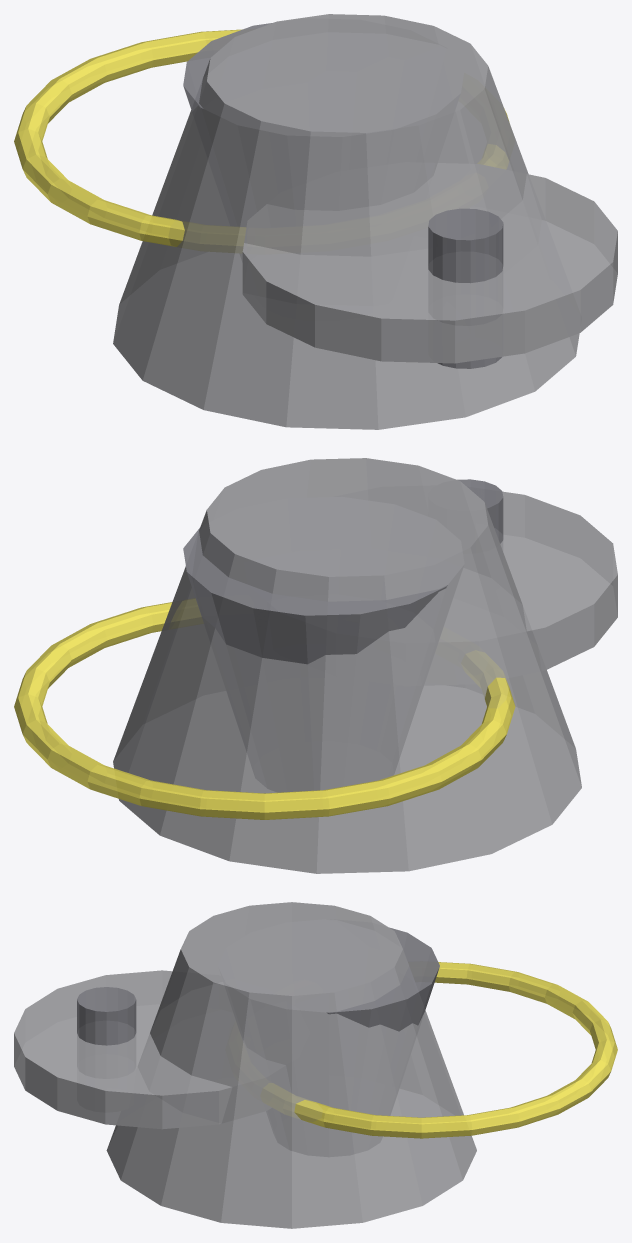
File: cone_crusher.glb
3 views of the same model, one above another, from view 1: azimuth 30°, elevation 25°; view 2: azimuth 150°, elevation 25°; view 3: azimuth 270°, elevation 25° (orthographic). The views are drawn at different scales.
Parts seen in each view (by area): view 1: Bowl, Base, Mantle, FeedRim, Shaft; view 2: Bowl, Mantle, FeedRim, Base, Shaft; view 3: Bowl, Mantle, Base, FeedRim, Shaft.
Part boxes in pixels (<box>): Bowl: <box>113,14,579,429</box>; Base: <box>242,163,617,363</box>; Mantle: <box>183,23,463,258</box>; FeedRim: <box>14,29,509,252</box>; Shaft: <box>428,208,503,368</box>; Bowl: <box>113,458,581,873</box>; Mantle: <box>183,497,463,791</box>; FeedRim: <box>14,598,515,819</box>; Base: <box>425,491,617,684</box>; Shaft: <box>457,479,503,549</box>; Bowl: <box>106,902,476,1228</box>; Mantle: <box>218,920,439,1156</box>; Base: <box>14,970,290,1129</box>; FeedRim: <box>261,962,617,1138</box>; Shaft: <box>77,987,136,1078</box>.
Bounding box in the file's own units: 10.6 × 6 × 16.3.
